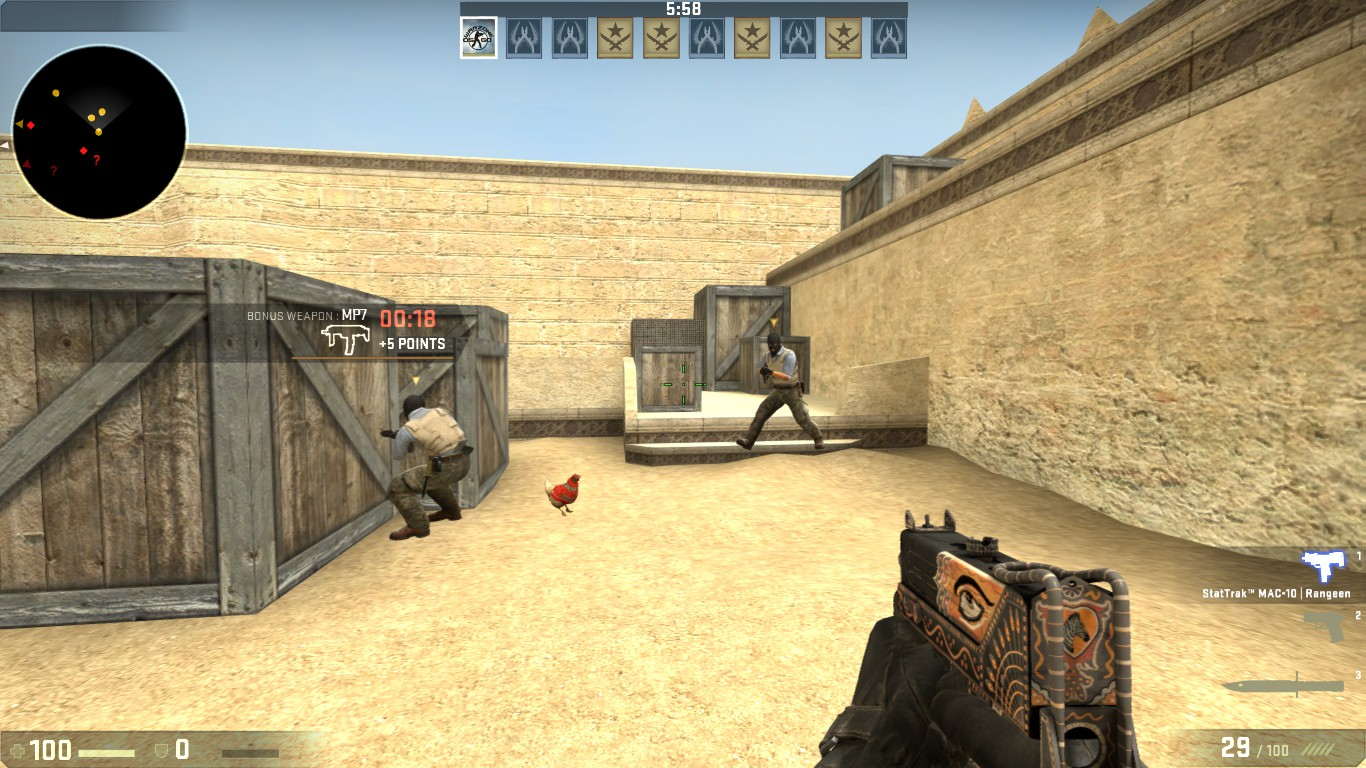t: (739, 333, 823, 455)
th: (379, 393, 474, 540), (394, 393, 434, 421), (763, 333, 786, 358)
